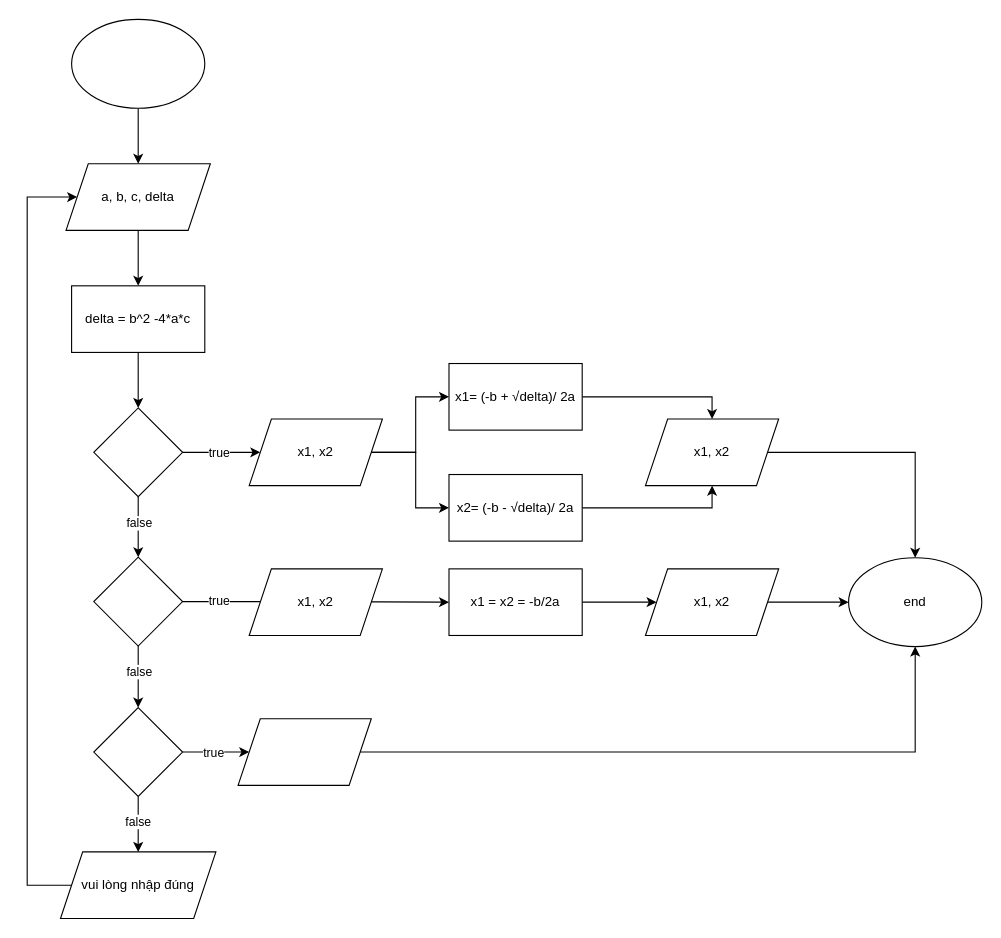
Image size: 1001x938. Some labels were removed from this diagram. Here are the shapes that lost their labels. From the top down, the centre of each, then its label:
At [137,63]: "start".
At [138,452]: "delta>0".
At [138,601]: "delta==0".
At [138,751]: "delta<0".
At [304,751]: "phương trình vô nghiệm".
